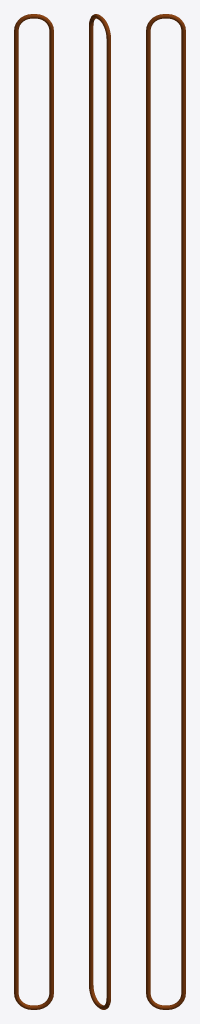
Rendered from shenzi.obj.
3 views of the same model, side by side, from view 1: azimuth 90°, elevation 25°; view 2: azimuth 210°, elevation 25°; view 3: azimuth 270°, elevation 25° (orthographic).
Visible parts, largest first — view 1: Rectangle049; view 2: Rectangle049; view 3: Rectangle049.
Boxes of the visible parts, box(x1,y1,x2,y2) form: Rectangle049: box(14, 14, 53, 1009); Rectangle049: box(89, 14, 110, 1009); Rectangle049: box(146, 14, 185, 1009).
Size of the model in its own units: 0.02 by 4.79 by 0.1741.
